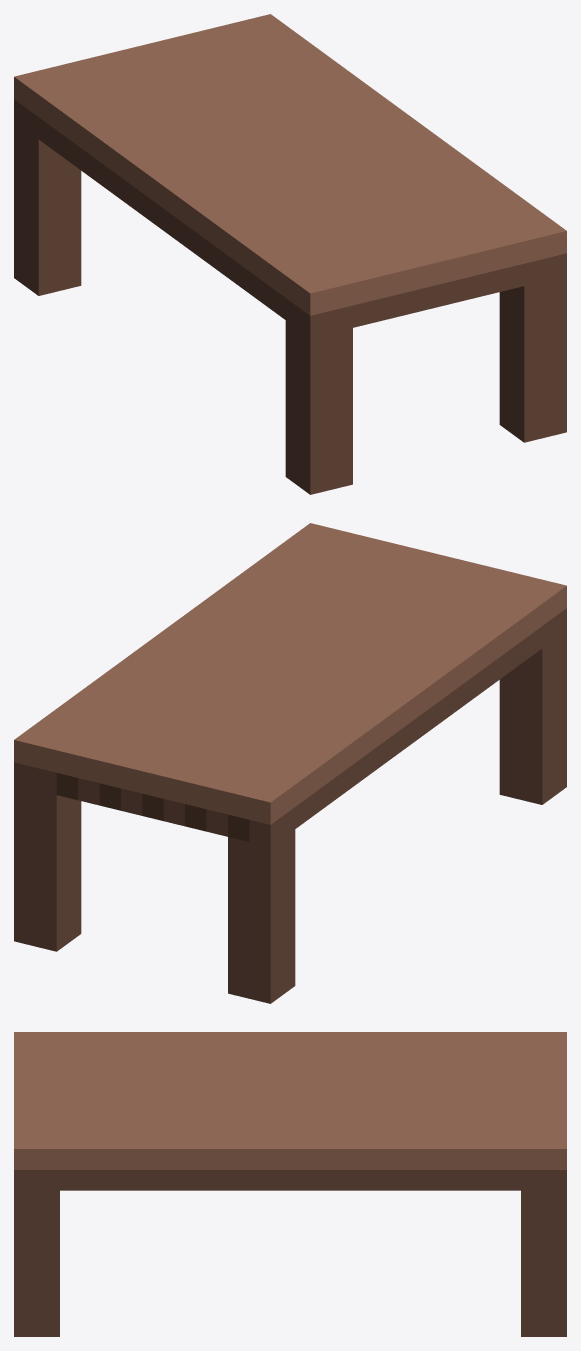
File: escritorio_caoba_tallado_01.glb
3 renders of one model, top to bottom at view 1: azimuth 30°, elevation 25°; view 2: azimuth 150°, elevation 25°; view 3: azimuth 270°, elevation 25°, orthographic. The views are drawn at different scales.
Visible parts, largest first — view 1: escritorio_caoba_tallado; view 2: escritorio_caoba_tallado; view 3: escritorio_caoba_tallado.
Part boxes in pixels (x1,y1,x2,y2): escritorio_caoba_tallado: [14, 14, 566, 494]; escritorio_caoba_tallado: [14, 523, 566, 1003]; escritorio_caoba_tallado: [14, 1032, 566, 1336].
Bounding box in the file's own units: 1 × 0.75 × 2.
